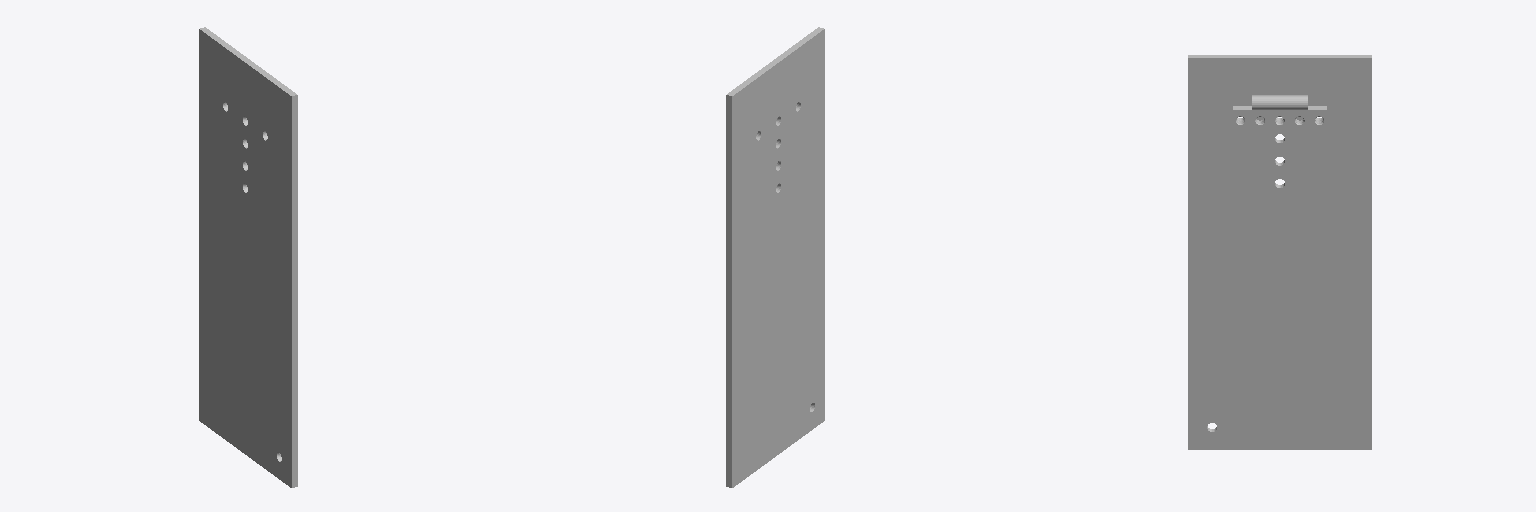
File: ducket_right.obj
3 views of the same model, side by side, from view 1: azimuth 30°, elevation 25°; view 2: azimuth 150°, elevation 25°; view 3: azimuth 270°, elevation 25° (orthographic).
Size of the model in its own units: 0.01 by 0.1755 by 0.075.